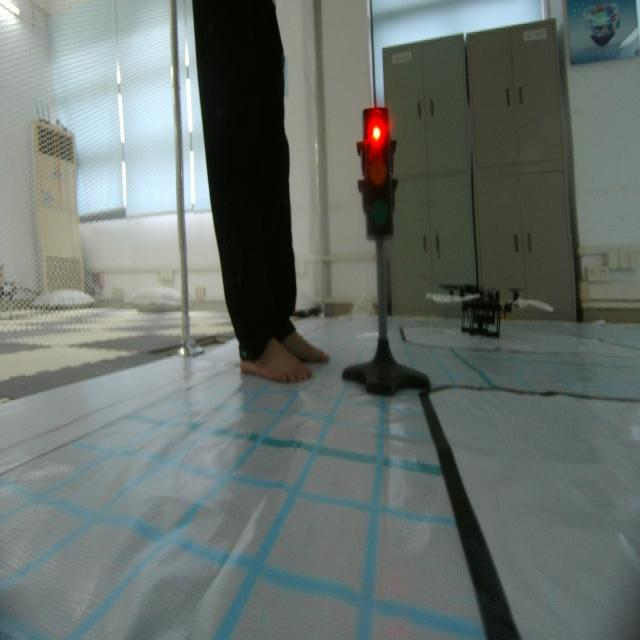red: (355, 104, 399, 247)
